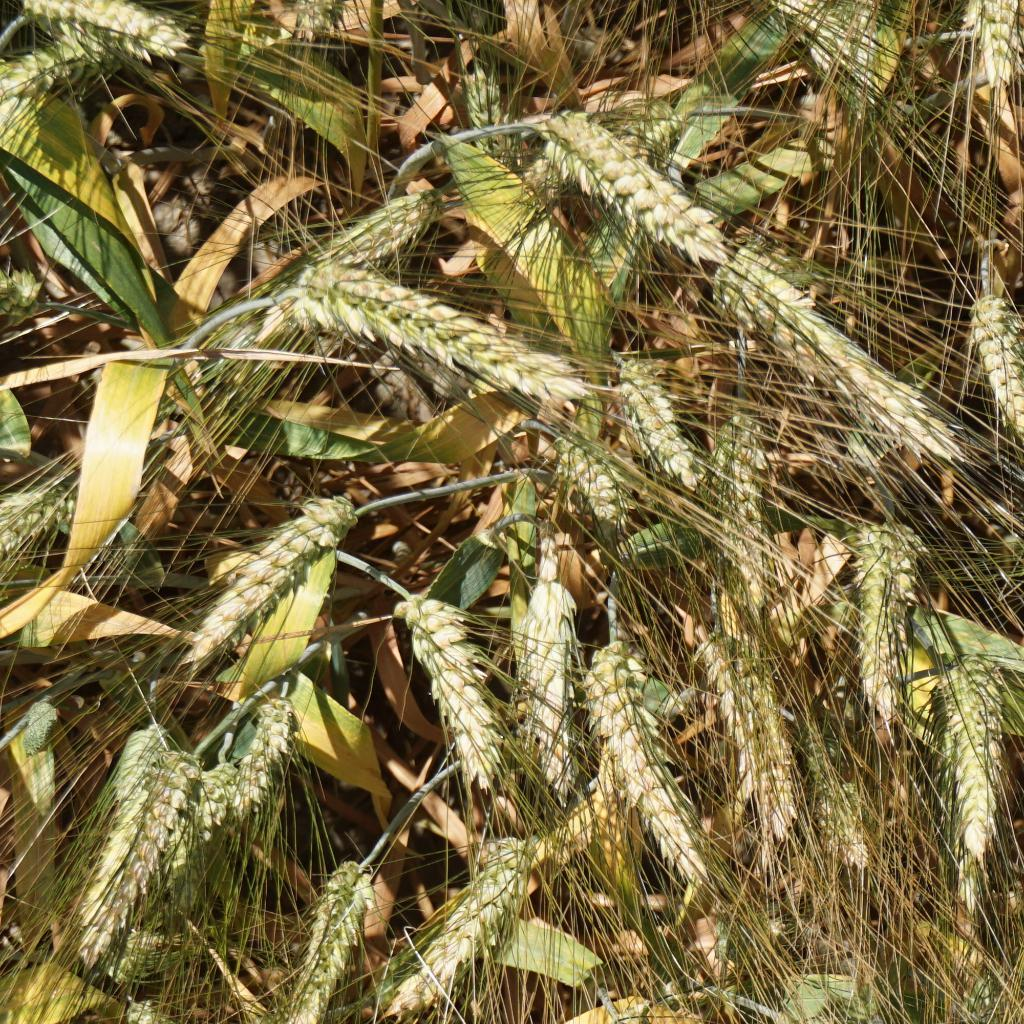0-0: (291, 270, 583, 413), (730, 254, 918, 442), (578, 633, 707, 873), (377, 832, 537, 1024), (546, 108, 713, 257), (193, 501, 352, 652), (702, 622, 796, 830), (513, 570, 594, 803), (399, 583, 496, 772), (509, 86, 676, 189), (932, 643, 1003, 853), (848, 514, 913, 721), (716, 410, 783, 591), (93, 715, 153, 914), (617, 360, 706, 494), (289, 859, 361, 1024), (798, 716, 870, 862), (18, 0, 195, 58), (968, 290, 1024, 446), (316, 192, 423, 270), (557, 425, 626, 531), (156, 748, 202, 904), (7, 43, 143, 95), (236, 695, 287, 807), (461, 63, 515, 162), (964, 0, 1024, 89), (766, 1, 844, 66), (0, 495, 50, 591), (836, 0, 896, 80), (188, 759, 233, 861), (282, 0, 354, 48), (765, 1000, 906, 1024), (943, 963, 1003, 1018), (121, 925, 167, 985), (607, 1003, 717, 1024), (16, 697, 58, 750), (121, 995, 196, 1024), (213, 1001, 279, 1024), (0, 249, 16, 314)
